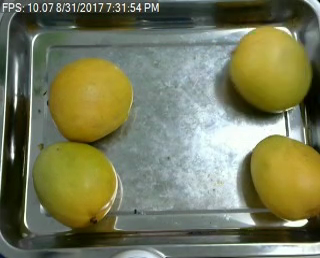Mango: (32, 144, 118, 227), (231, 28, 312, 112), (51, 58, 132, 141), (250, 135, 320, 220)
